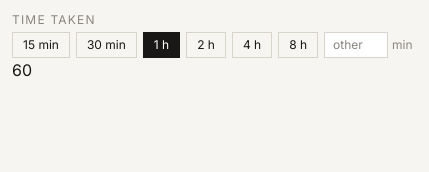
it: EstimatePicker typing › keeps every digit of 150 minutes
Type "150" into the number field named "Time taken in minutes" at (356, 45), box [324, 32, 388, 58]
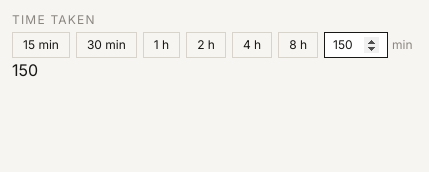
Check: the text with test id "value" reads "150", box [12, 60, 38, 80]
